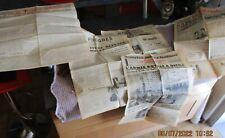paper: (0, 3, 225, 132)
